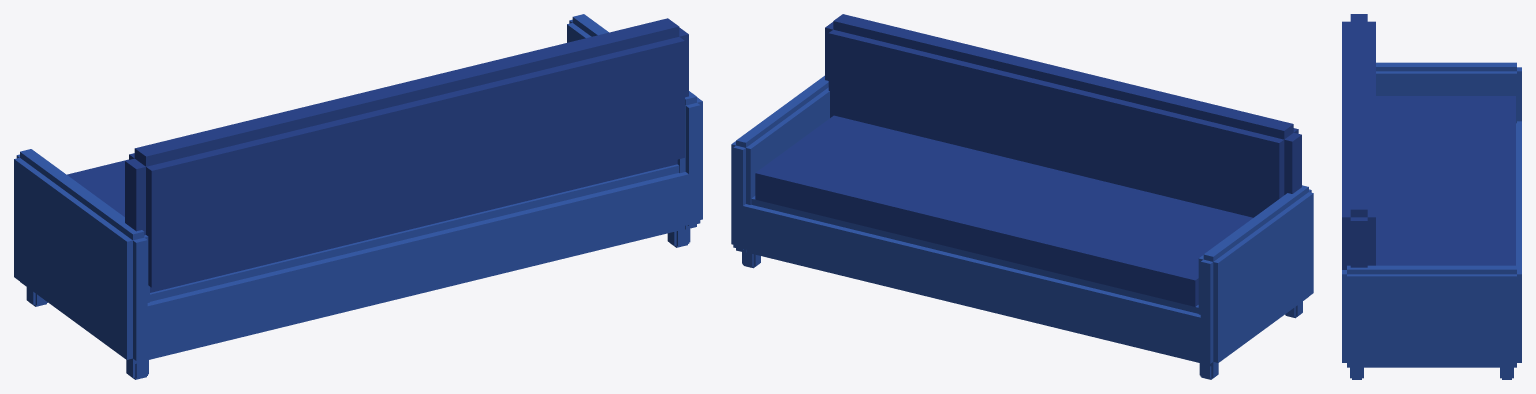
File: mushroom_sofa_v0.glb
The picture shows the model from 3 angles, left to right: view 1: azimuth 30°, elevation 25°; view 2: azimuth 150°, elevation 25°; view 3: azimuth 270°, elevation 25°; orthographic projection. The views are drawn at different scales.
Parts seen in each view (by area): view 1: mushroom_sofa_v0; view 2: mushroom_sofa_v0; view 3: mushroom_sofa_v0.
Boxes of the visible parts, x1,y1,x2,y2 form: mushroom_sofa_v0: (14, 14, 702, 379); mushroom_sofa_v0: (731, 14, 1313, 379); mushroom_sofa_v0: (1342, 14, 1521, 379).
Size of the model in its own units: 2.5 by 0.92 by 0.9.
